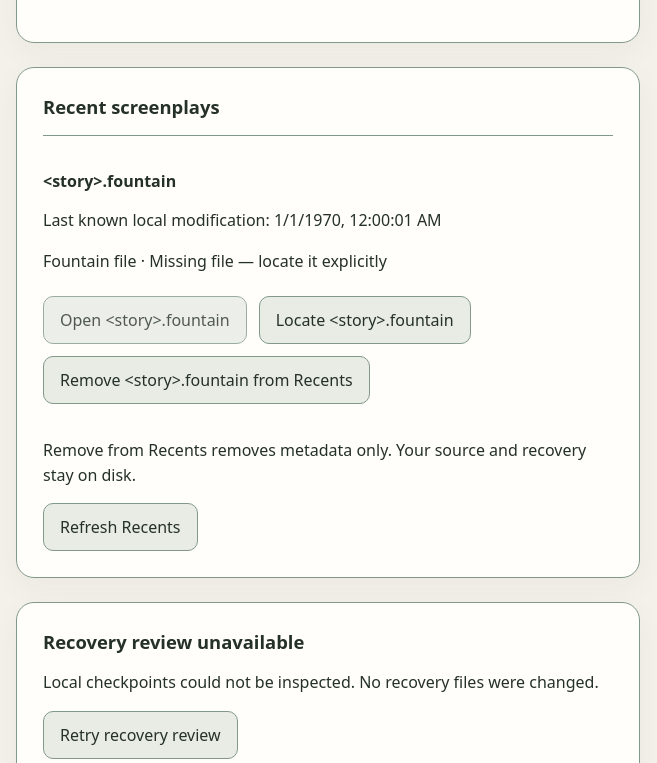
Test: M4-02 Home (injected native ports) › removes only metadata and explains retention
(page scrolled)
Expected: the heading "<story>.fountain" is shown, [43, 170, 176, 192]
Click the button "Remove <story>.fountain from Recents".
click(206, 380)  # box [43, 356, 370, 404]
(page scrolled)
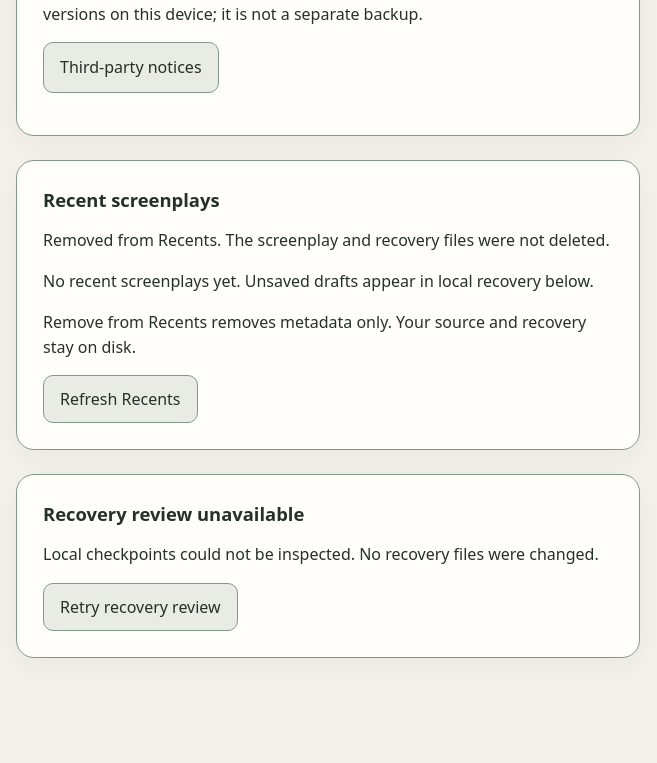
Result: the text "Removed from Recents. The screenplay and recovery files were not deleted." is shown at [43, 228, 613, 253]
Result: the heading "<story>.fountain" is gone
